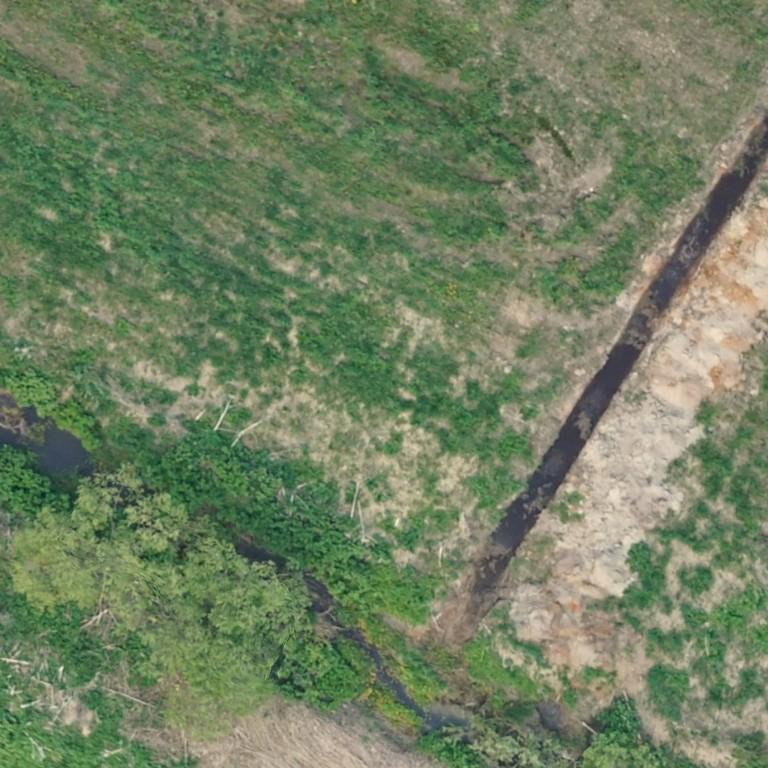hogweed: (141, 425, 381, 612), (2, 596, 100, 680), (624, 541, 664, 609), (646, 663, 689, 720)
